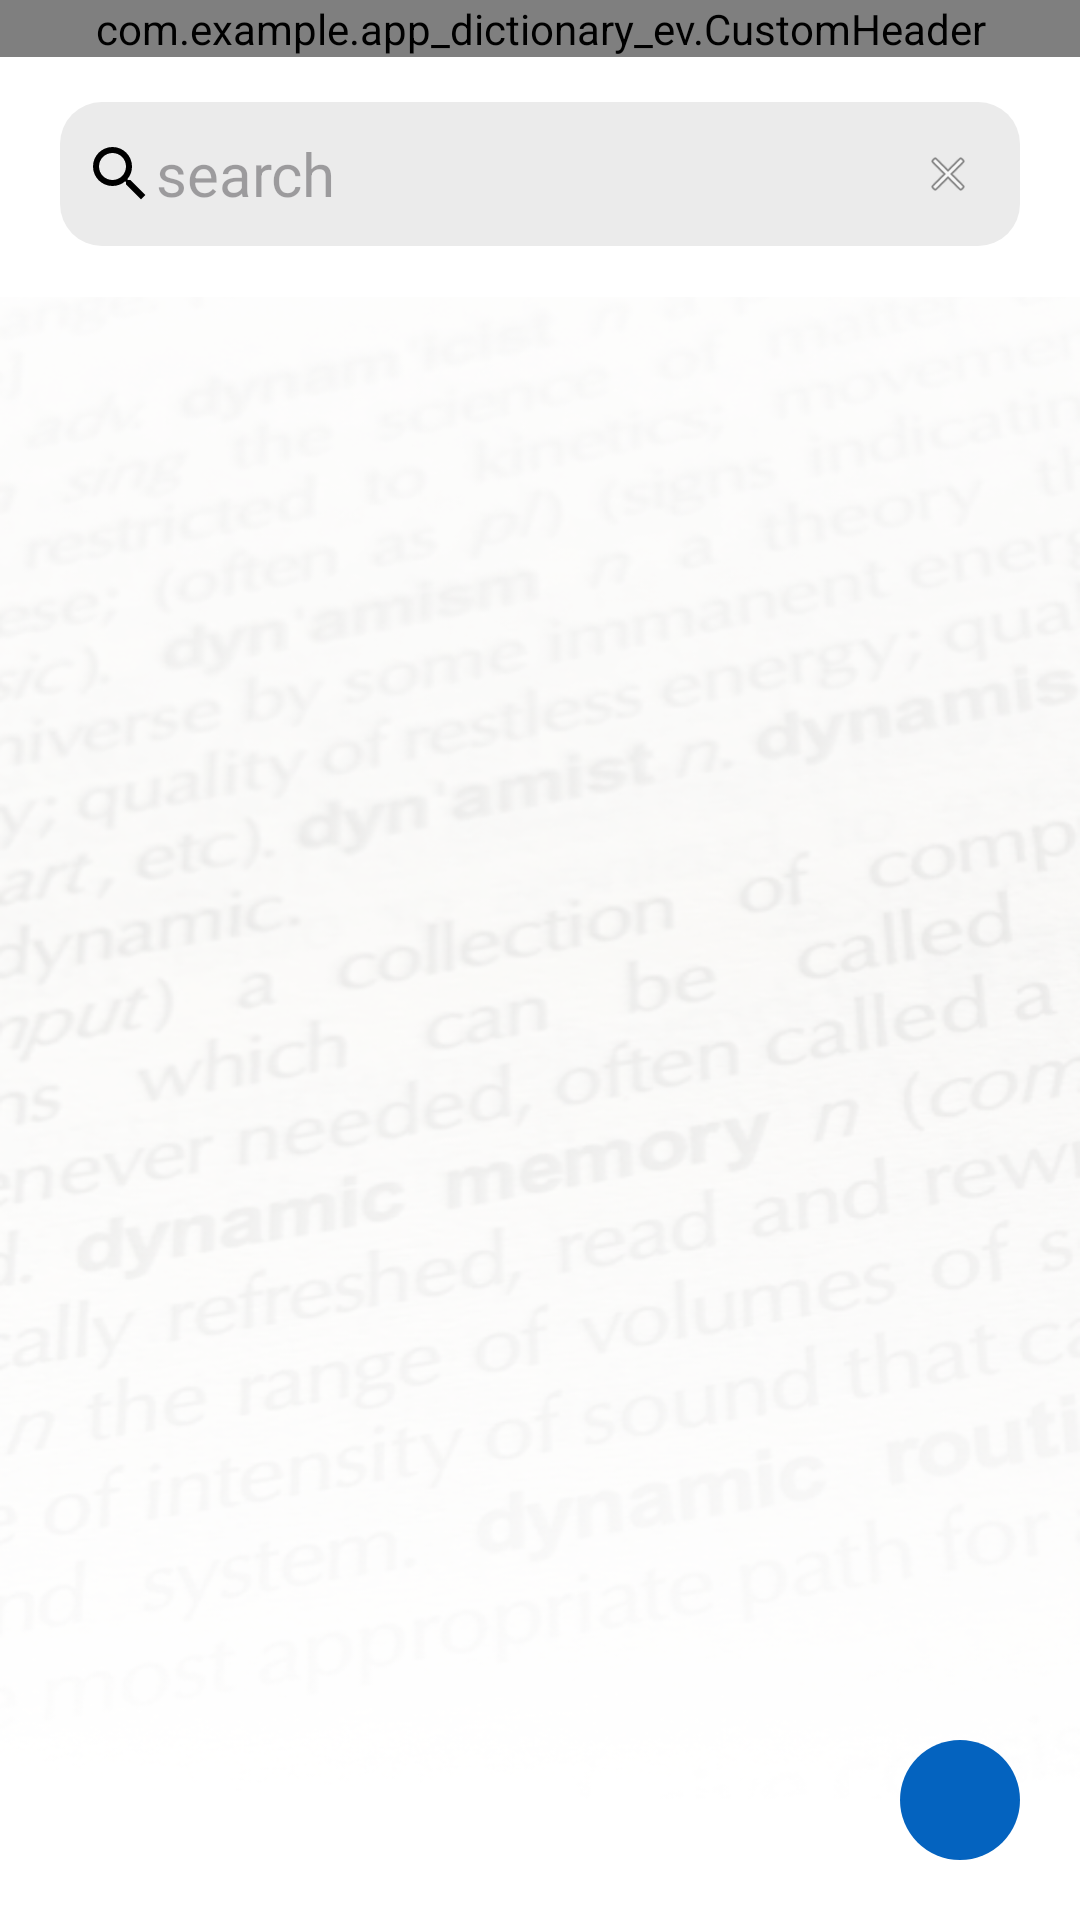

Where icons sit on this 1080w x 1920h app screen, as {"left": x1, "top": y1, "right": x2, "bottom": y2}:
Clear input: {"left": 876, "top": 102, "right": 1020, "bottom": 246}
